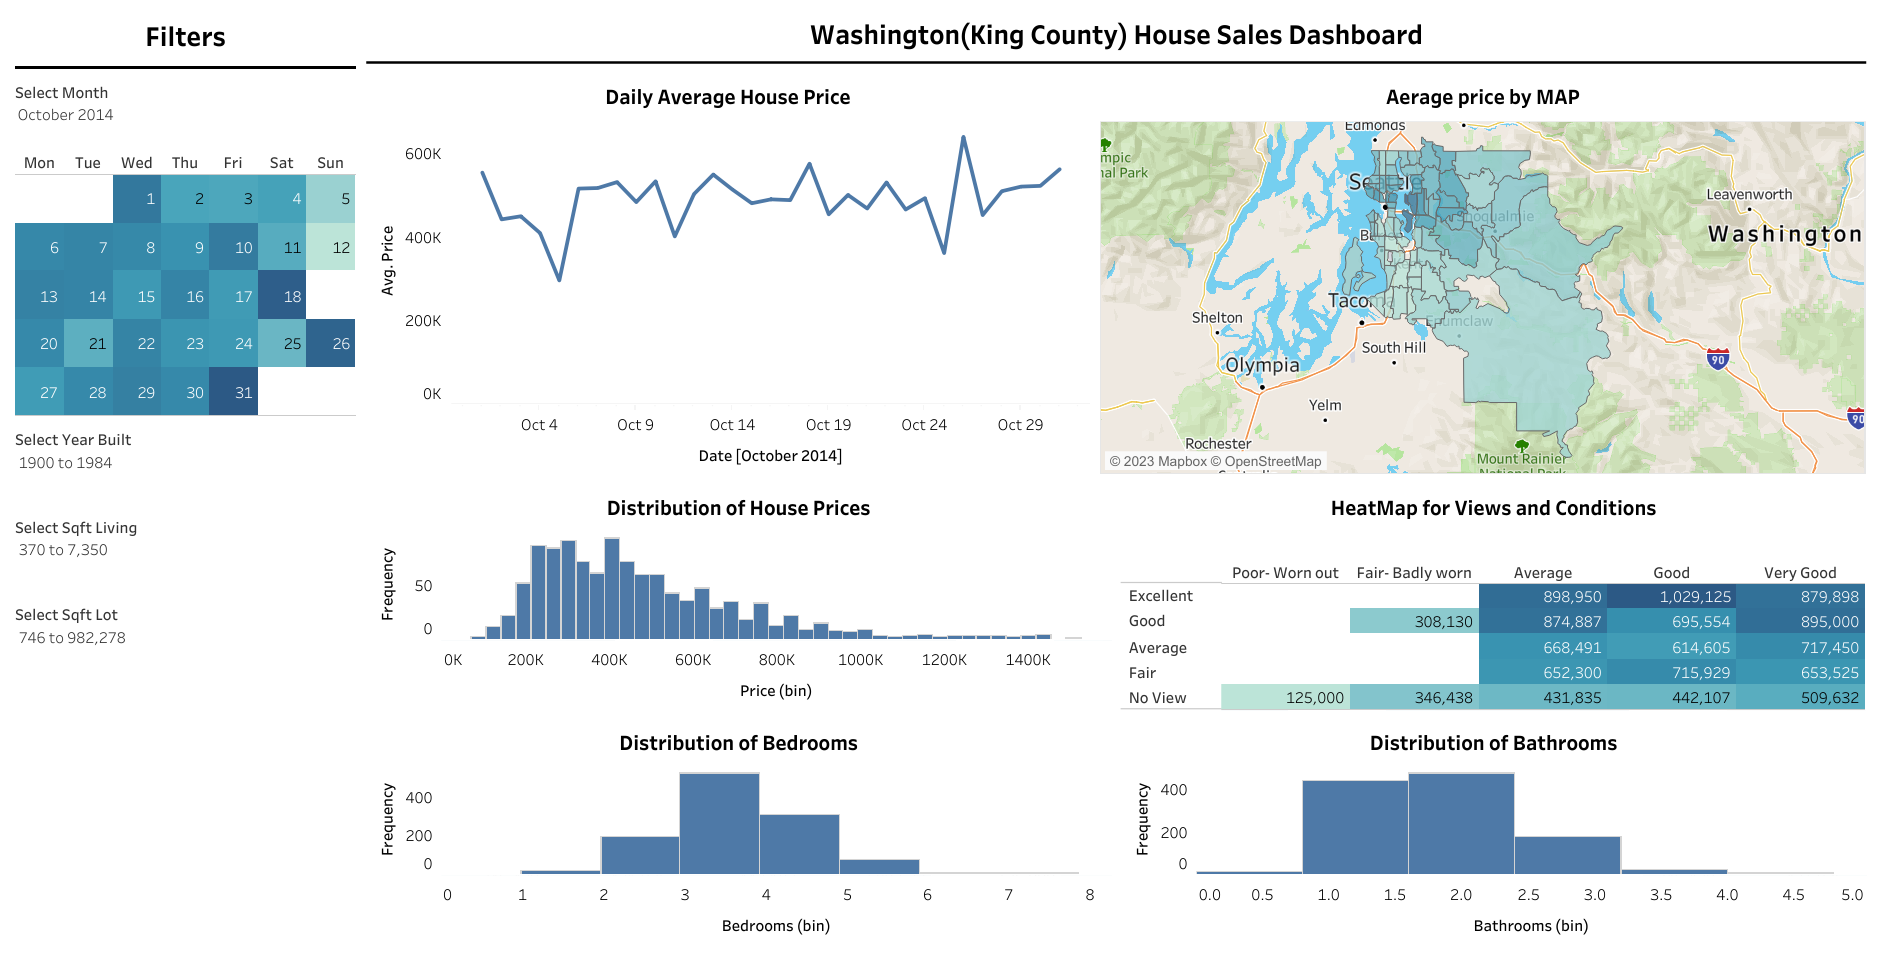

This screenshot's page, from the dashboard's own definition file:
{"tool":"tableau","page":{"name":"Washington(King County) House Sales Dashboard","canvas":[1000,1000],"units":"permille","ordinal":0},"visuals":[{"type":"text","box":[4.7,9.4,186.9,52.9]},{"type":"text","box":[191.6,9.4,803.8,52.9]},{"type":"blank","box":[4.7,62.3,186.9,11.8]},{"type":"blank","box":[191.6,62.3,803.8,11.8]},{"type":"filter","title":"Calender","param":"[federated.19dvn6b0qreyn21fp5lj7007l8vx].[my:date:ok]","box":[4.7,74,186.9,71.7]},{"type":"worksheet","title":"Daily Average House Price","mark":"Automatic","rows":["price"],"cols":["date"],"box":[191.6,74,394.9,426]},{"type":"worksheet","title":"Aerage price by MAP","mark":"Automatic","box":[586.4,74,408.9,426]},{"type":"worksheet","title":"Calender","mark":"Square","rows":["date"],"cols":["date"],"box":[4.7,145.7,186.9,260.9]},{"type":"filter","title":"Calender","param":"[federated.19dvn6b0qreyn21fp5lj7007l8vx].[none:yr_built:qk]","box":[4.7,406.6,186.9,64.6]},{"type":"filter","title":"Calender","param":"[federated.19dvn6b0qreyn21fp5lj7007l8vx].[none:sqft_living:qk]","box":[4.7,471.2,186.9,64.6]},{"type":"worksheet","title":"Distribution of House Prices","mark":"Automatic","rows":["price"],"cols":["Price (bin)"],"box":[191.6,500,401.9,245.3]},{"type":"worksheet","title":"HeatMap for Views and Conditions","mark":"Square","rows":["view"],"cols":["condition"],"box":[593.4,500,401.9,245.3]},{"type":"filter","title":"Calender","param":"[federated.19dvn6b0qreyn21fp5lj7007l8vx].[none:sqft_lot:qk]","box":[4.7,535.8,186.9,64.6]},{"type":"worksheet","title":"Distribution of Bedrooms","mark":"Automatic","rows":["bedrooms"],"cols":["Bedrooms (bin)"],"box":[191.6,745.3,401.9,245.3]},{"type":"worksheet","title":"Distribution of Bathrooms","mark":"Automatic","rows":["bathrooms"],"cols":["Bathrooms (bin)"],"box":[593.4,745.3,401.9,245.3]}]}

Visuals, with their boxes on the dashboard's canvas, which has no fixed pixel size, in thousandths of its width and height (x1, y1, x2, y2). These are canvas units, not pixel positions in the 1880x959 screenshot, which may show the page scaled, cropped or inside an application window:
text: [5, 9, 192, 62]
text: [192, 9, 995, 62]
blank: [5, 62, 192, 74]
blank: [192, 62, 995, 74]
"Calender" filter: [5, 74, 192, 146]
"Daily Average House Price" worksheet: [192, 74, 586, 500]
"Aerage price by MAP" worksheet: [586, 74, 995, 500]
"Calender" worksheet (Square marks): [5, 146, 192, 407]
"Calender" filter: [5, 407, 192, 471]
"Calender" filter: [5, 471, 192, 536]
"Distribution of House Prices" worksheet: [192, 500, 594, 745]
"HeatMap for Views and Conditions" worksheet (Square marks): [593, 500, 995, 745]
"Calender" filter: [5, 536, 192, 600]
"Distribution of Bedrooms" worksheet: [192, 745, 594, 991]
"Distribution of Bathrooms" worksheet: [593, 745, 995, 991]
